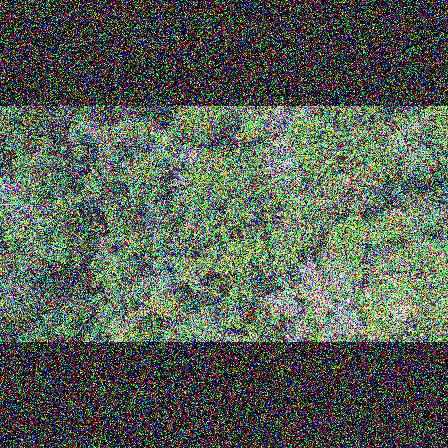Dead: (263, 106, 317, 145), (319, 298, 368, 332), (81, 116, 117, 154), (264, 148, 298, 188), (383, 118, 429, 146), (268, 285, 307, 314), (317, 269, 360, 293), (298, 253, 328, 287), (275, 318, 309, 340), (180, 144, 201, 170), (169, 171, 192, 190)
